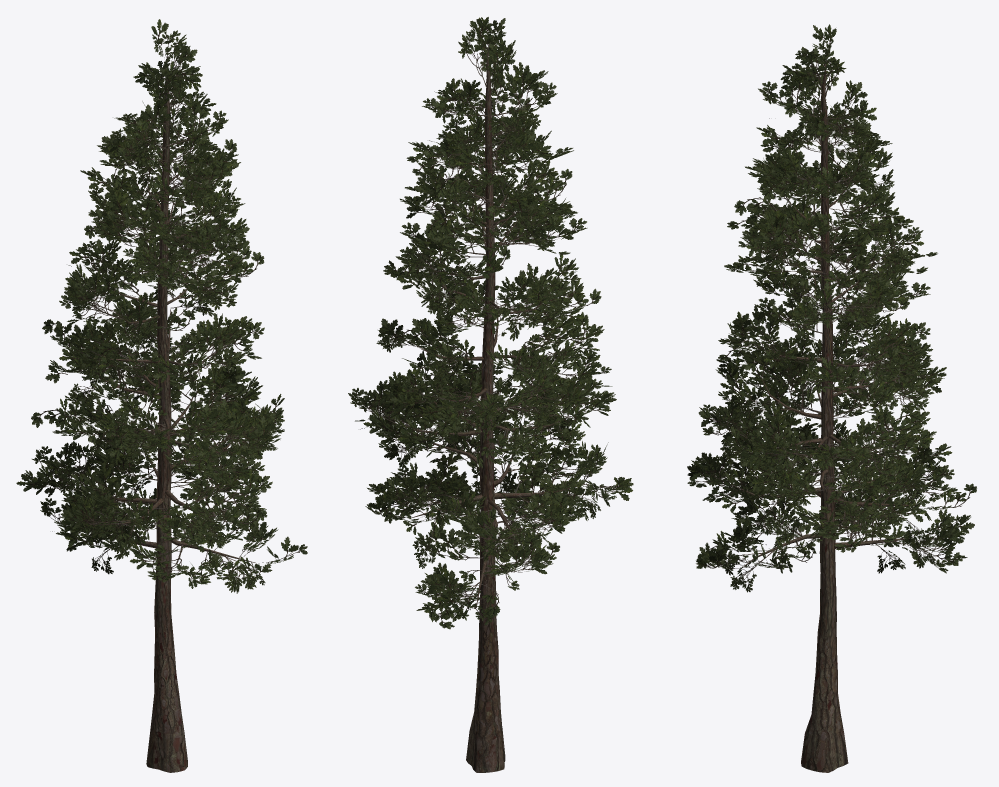
File: s3dtrees_treepineforest05.gltf
3 views of the same model, side by side, from view 1: azimuth 30°, elevation 25°; view 2: azimuth 150°, elevation 25°; view 3: azimuth 270°, elevation 25° (orthographic).
Visible parts, largest first — view 1: S3DTrees_treepineforest05_needles, S3DTrees_treepineforest05_needlesNS, S3DTrees_treepineforest05_trunk; view 2: S3DTrees_treepineforest05_needles, S3DTrees_treepineforest05_needlesNS, S3DTrees_treepineforest05_trunk; view 3: S3DTrees_treepineforest05_needles, S3DTrees_treepineforest05_needlesNS, S3DTrees_treepineforest05_trunk.
Part boxes in pixels (bbox=[...]): S3DTrees_treepineforest05_needles: bbox=[16, 19, 307, 588]; S3DTrees_treepineforest05_needlesNS: bbox=[24, 40, 277, 593]; S3DTrees_treepineforest05_trunk: bbox=[73, 67, 256, 772]; S3DTrees_treepineforest05_needles: bbox=[352, 17, 633, 629]; S3DTrees_treepineforest05_needlesNS: bbox=[348, 21, 628, 621]; S3DTrees_treepineforest05_trunk: bbox=[400, 52, 585, 772]; S3DTrees_treepineforest05_needles: bbox=[687, 24, 976, 573]; S3DTrees_treepineforest05_needlesNS: bbox=[691, 48, 970, 592]; S3DTrees_treepineforest05_trunk: bbox=[735, 64, 919, 772].
Bounding box in the file's own units: 5.4 × 14.42 × 5.5.
2 materials, 2 textured.
